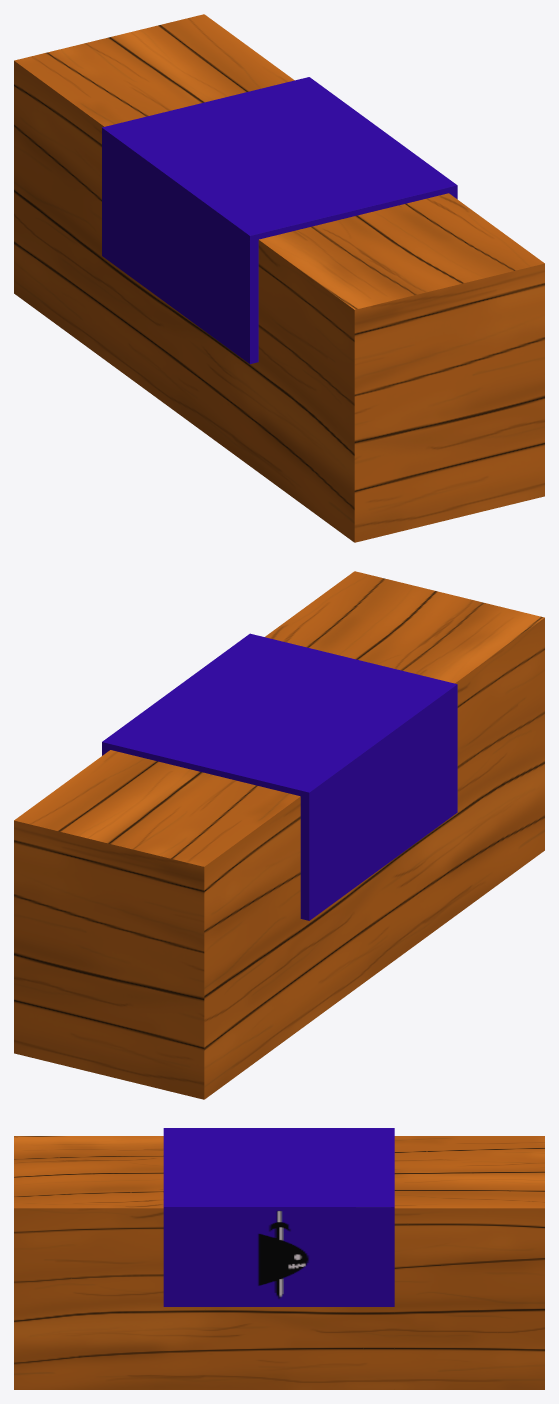
The model's file is job_desk.fbx.
3 renders of one model, top to bottom at view 1: azimuth 30°, elevation 25°; view 2: azimuth 150°, elevation 25°; view 3: azimuth 270°, elevation 25°, orthographic. The views are drawn at different scales.
Parts seen in each view (by area): view 1: Desk; view 2: Desk; view 3: Desk.
Part boxes in pixels (x1,y1,x2,y2): Desk: (14,14,544,542); Desk: (14,571,544,1099); Desk: (14,1128,544,1389).
Bounding box in the file's own units: 406 × 446 × 1153.
